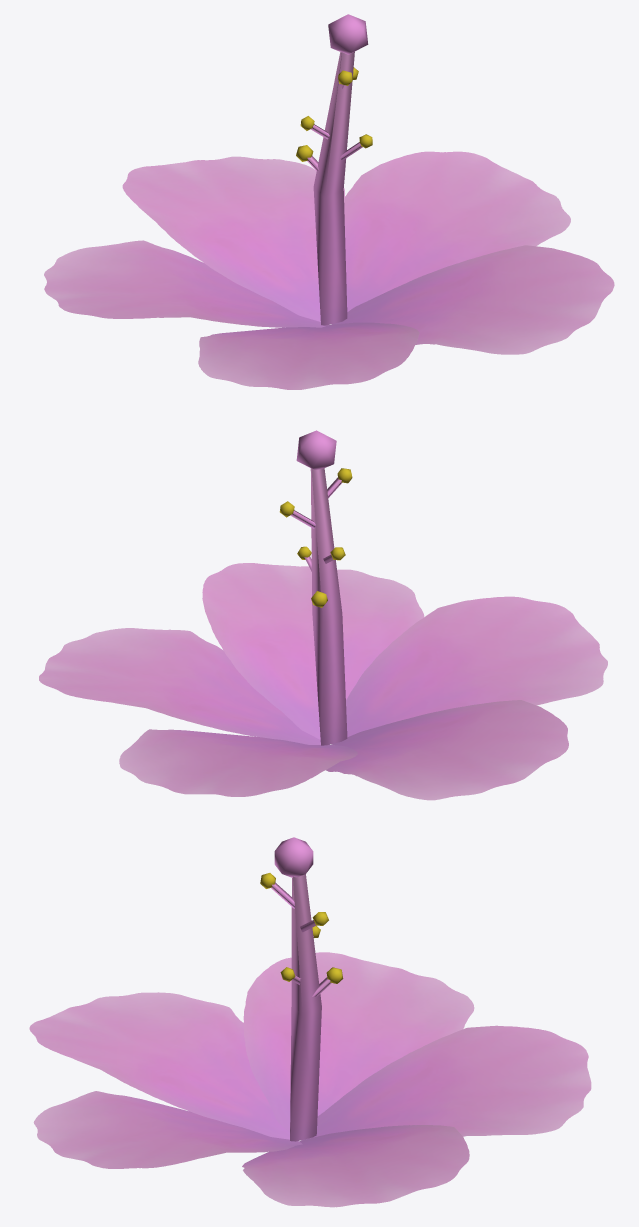
File: Hibiscus_Pink3.fbx
3 renders of one model, top to bottom at view 1: azimuth 30°, elevation 25°; view 2: azimuth 150°, elevation 25°; view 3: azimuth 270°, elevation 25°, orthographic.
Visible parts, largest first — view 1: Hibiscus_Pink3; view 2: Hibiscus_Pink3; view 3: Hibiscus_Pink3.
Part boxes in pixels (x1=…): Hibiscus_Pink3: x1=44, y1=14, x2=614, y2=389; Hibiscus_Pink3: x1=39, y1=430, x2=607, y2=800; Hibiscus_Pink3: x1=29, y1=837, x2=591, y2=1207.
Size of the model in its own units: 43.45 by 24.37 by 42.81.
